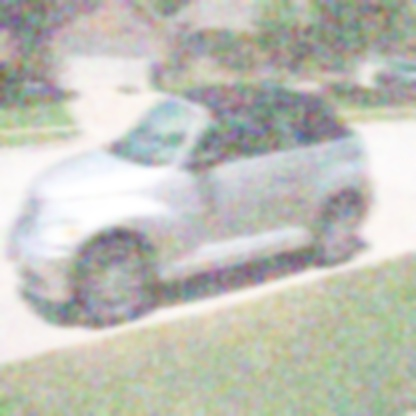Vehicle: (8, 85, 376, 328)
